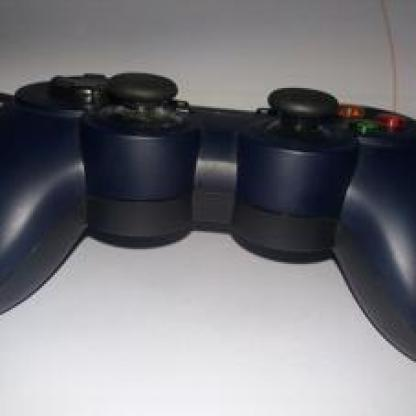gamepad: (3, 61, 415, 365)
